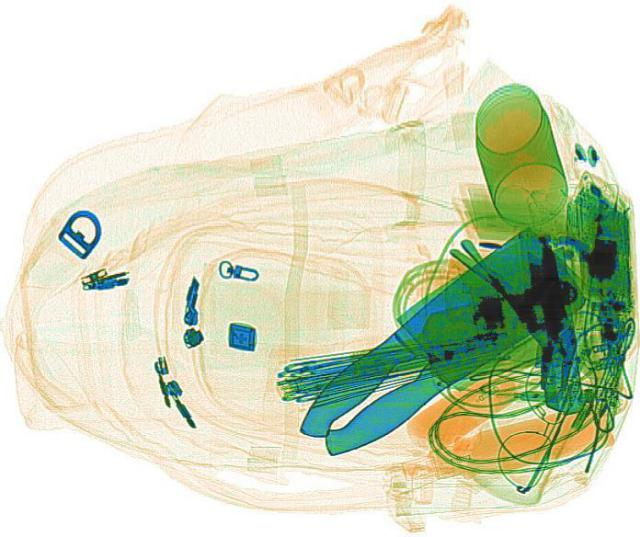Knife: (278, 225, 604, 474), (269, 229, 597, 466)
